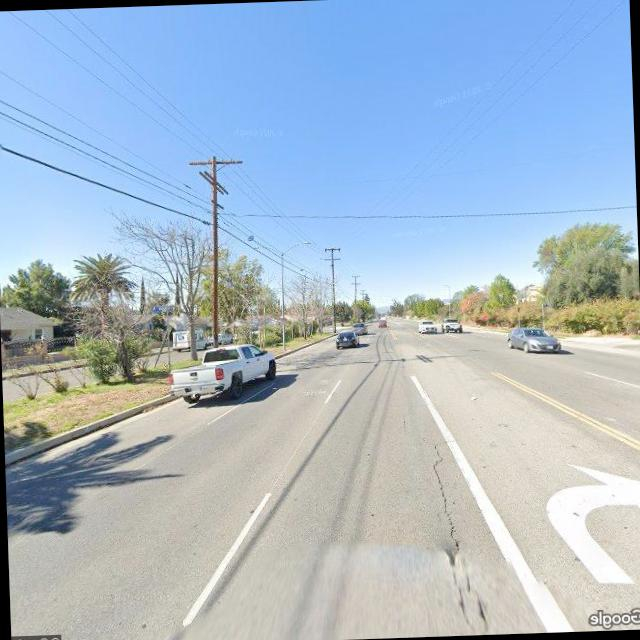crack: (390, 390, 494, 630)
